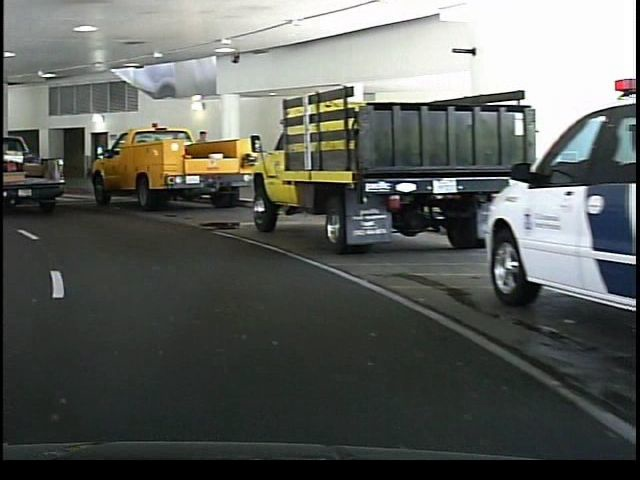person: (190, 125, 213, 195)
